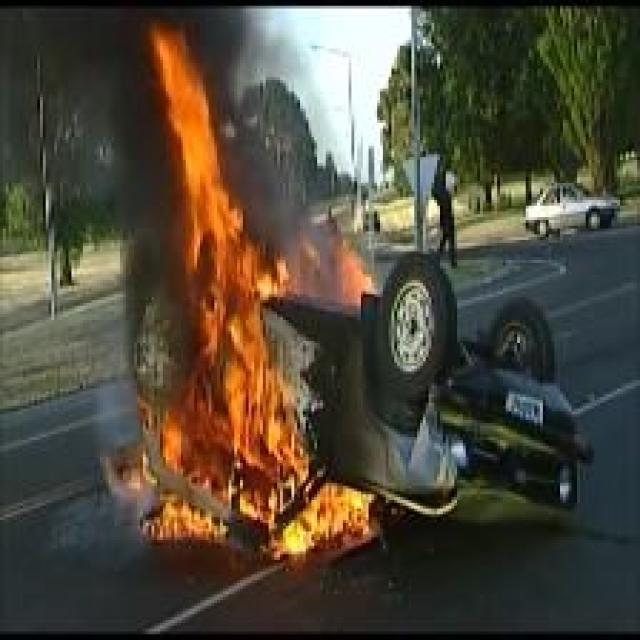Fire: (123, 27, 380, 556), (337, 242, 374, 308)
